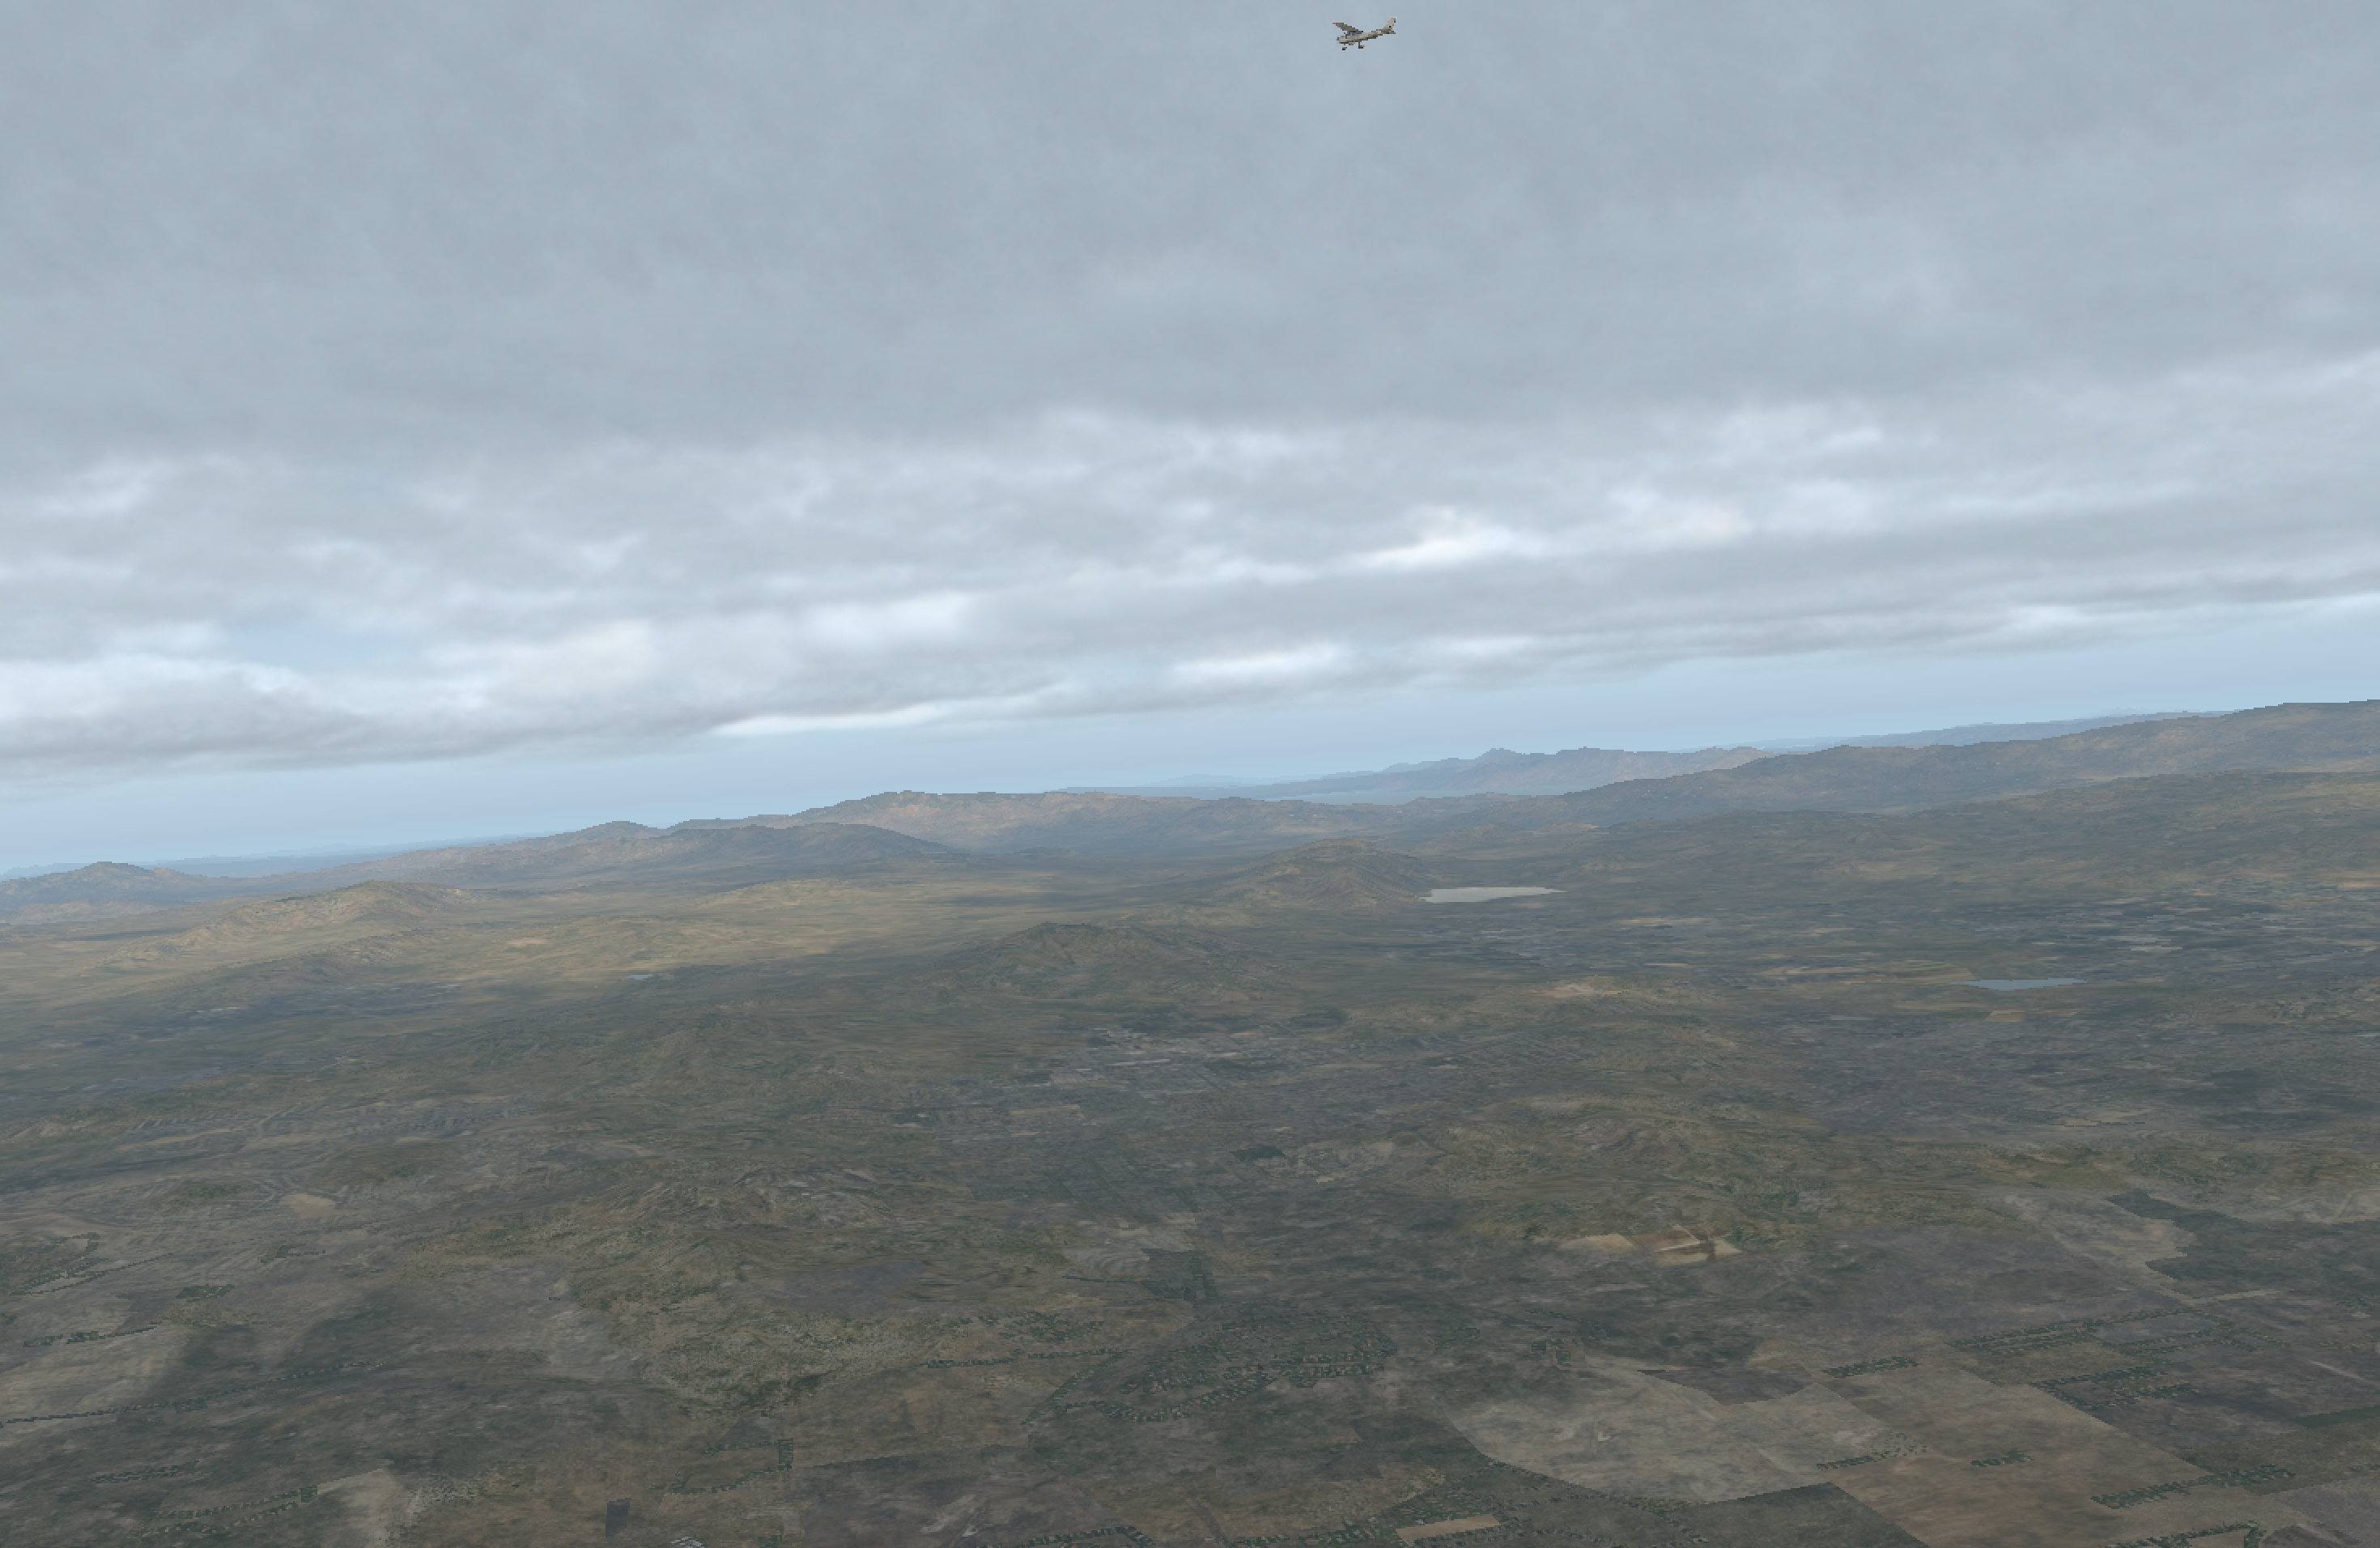aircraft: (1324, 26, 1383, 47)
